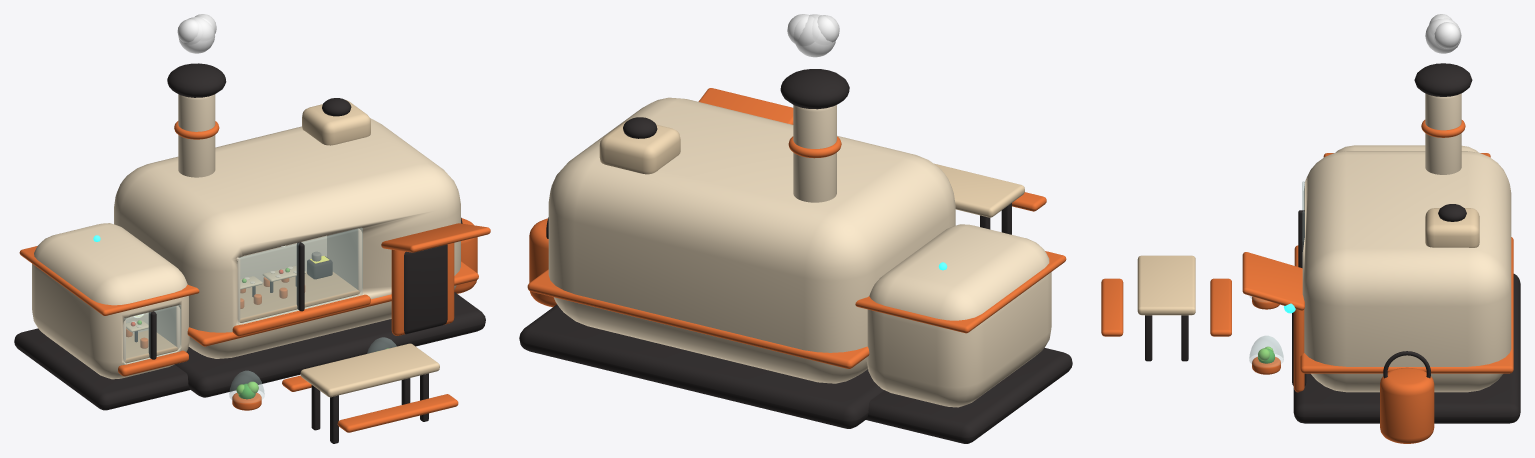
File: kitchen-10.glb
3 views of the same model, side by side, from view 1: azimuth 30°, elevation 25°; view 2: azimuth 150°, elevation 25°; view 3: azimuth 270°, elevation 25° (orthographic). The views are drawn at different scales.
Parts seen in each view (by area): view 1: Cube.001, Cube, Cube.012, Cube.011, Cube.006, Cube.002, Cube.003, Sphere.007; view 2: Cube.001, Cube, Cube.012, Cube.006, Sphere.007; view 3: Cube.001, Cube.012, Cube, Cube.006, Cube.011, Sphere.007.
Part boxes in pixels (box(x1,y1,x2,y2)): Cube.001: box(32, 94, 460, 379); Cube: box(14, 63, 485, 443); Cube.012: box(19, 121, 490, 432); Cube.011: box(123, 228, 396, 402); Cube.006: box(126, 99, 439, 397); Cube.002: box(123, 228, 362, 362); Cube.003: box(125, 272, 359, 363); Sphere.007: box(177, 14, 216, 53); Cube.001: box(548, 97, 1051, 407); Cube: box(519, 69, 1072, 443); Cube.012: box(527, 88, 1066, 368); Cube.006: box(599, 119, 1024, 217); Sphere.007: box(787, 14, 839, 57); Cube.001: box(1302, 93, 1511, 392); Cube.012: box(1101, 120, 1513, 443); Cube: box(1145, 63, 1520, 423); Cube.006: box(1137, 208, 1479, 315); Cube.011: box(1249, 181, 1304, 367); Sphere.007: box(1425, 14, 1461, 53).
Bounding box in the file's own units: 2.6 × 1.86 × 2.31.
